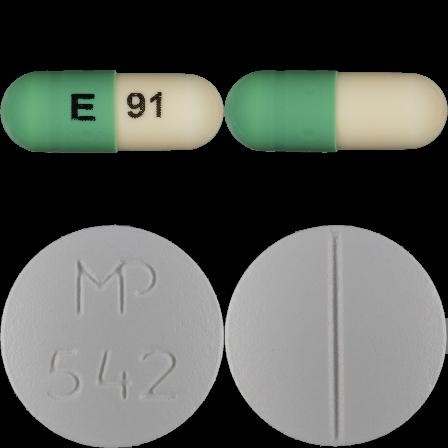68788-9223: (0, 0, 224, 224)
